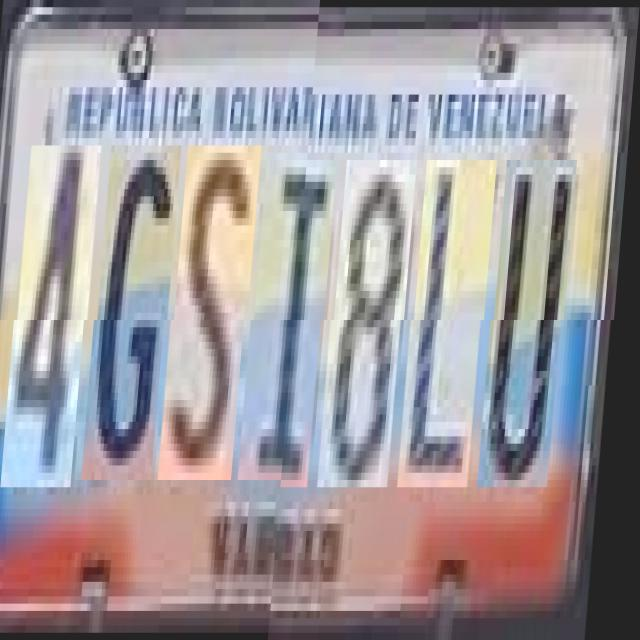4: (12, 152, 104, 494)
8: (329, 160, 420, 488)
G: (92, 152, 184, 488)
I: (249, 160, 340, 488)
L: (409, 160, 500, 488)
S: (168, 152, 264, 488)
U: (489, 160, 580, 488)
